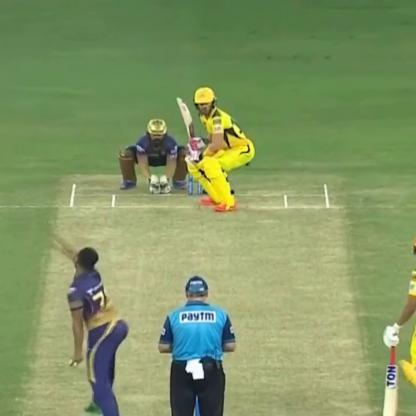ball: (68, 352, 79, 368)
bat: (172, 92, 202, 152)
pitch: (34, 164, 388, 416)
